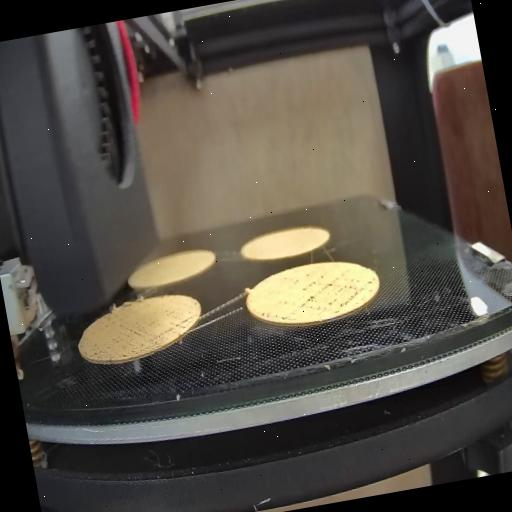under_extrusion: (292, 261, 376, 314), (86, 314, 144, 364), (148, 312, 196, 340), (260, 294, 290, 326)
